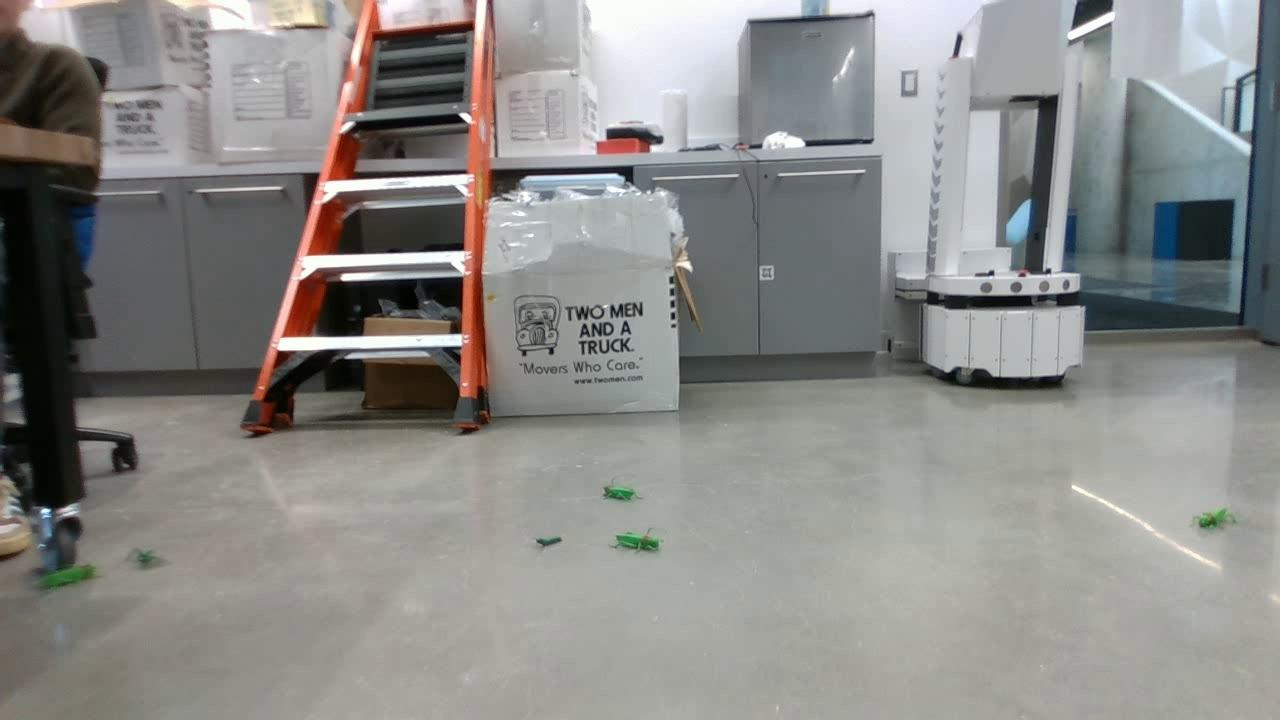grasshopper: (38, 561, 95, 596), (610, 530, 673, 553), (1190, 505, 1238, 532), (595, 487, 642, 502)
